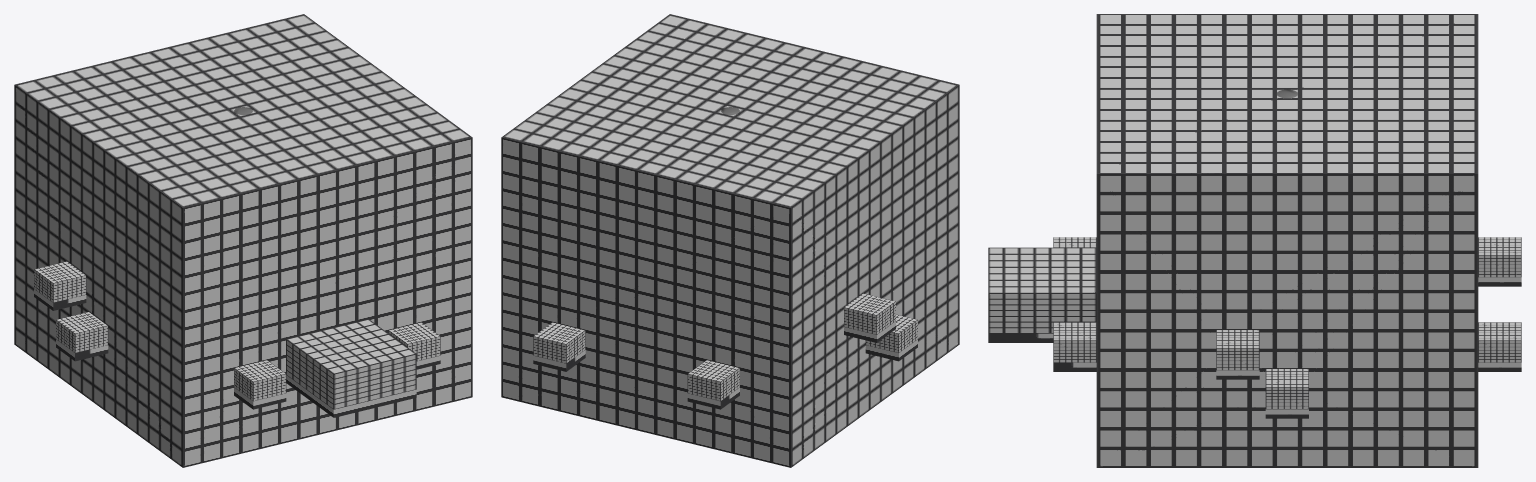
File: NivelFinal.fbx
The picture shows the model from 3 angles, left to right: view 1: azimuth 30°, elevation 25°; view 2: azimuth 150°, elevation 25°; view 3: azimuth 270°, elevation 25°; orthographic projection. The views are drawn at different scales.
Parts seen in each view (by area): view 1: Pared.001, Techo, Pared, Tienda.003, Tienda.004, Tienda.002, Tienda.001, SpawnEnemigo.043, SpawnEnemigo.016, SpawnEnemigo.046, Pared.002, SpawnEnemigo.018 (+6 smaller); view 2: Pared.002, Techo, Pared, SpawnEnemigo.038, SpawnEnemigo.034, SpawnEnemigo.040, Pared.001, SpawnEnemigo.037, SpawnEnemigo.033, SpawnEnemigo.041, SpawnEnemigo.013, SpawnEnemigo.014 (+1 smaller); view 3: Pared.003, Techo, Tienda.003, Tienda.005, Pared.002, Pared.001, SpawnEnemigo.023, SpawnEnemigo.028, SpawnEnemigo.032, SpawnEnemigo.039, SpawnEnemigo.026, SpawnEnemigo.022 (+5 smaller).
Boxes of the visible parts, x1,y1,x2,y2 form: Pared.001: (182,137,472,467); Techo: (15,14,470,207); Pared: (15,85,182,466); Tienda.003: (286,319,415,373); Tienda.004: (333,354,416,409); Tienda.002: (286,339,333,409); Tienda.001: (286,375,416,417); SpawnEnemigo.043: (53,275,86,302); SpawnEnemigo.016: (253,374,286,401); SpawnEnemigo.046: (75,326,108,352); Pared.002: (14,14,304,344); SpawnEnemigo.018: (234,360,285,381); Pared.002: (501,137,791,467); Techo: (502,15,956,207); Pared: (791,85,958,466); SpawnEnemigo.038: (687,374,720,401); SpawnEnemigo.034: (533,336,566,363); SpawnEnemigo.040: (844,307,876,334); Pared.001: (669,14,959,344); SpawnEnemigo.037: (688,360,739,381); SpawnEnemigo.033: (533,322,584,344); SpawnEnemigo.041: (844,293,895,315); SpawnEnemigo.013: (687,387,739,409); SpawnEnemigo.014: (865,339,917,361); Pared.003: (1098,173,1476,467); Techo: (1098,14,1476,173); Tienda.003: (988,247,1096,293); Tienda.005: (988,293,1096,333); Pared.002: (1476,14,1478,467); Pared.001: (1096,14,1098,467); SpawnEnemigo.023: (1053,340,1096,362); SpawnEnemigo.028: (1216,348,1259,370); SpawnEnemigo.032: (1478,340,1521,362); SpawnEnemigo.039: (1478,255,1521,277); SpawnEnemigo.026: (1265,387,1308,409); SpawnEnemigo.022: (1053,322,1096,340).
Size of the model in its own units: 8600 by 9860 by 6000.
